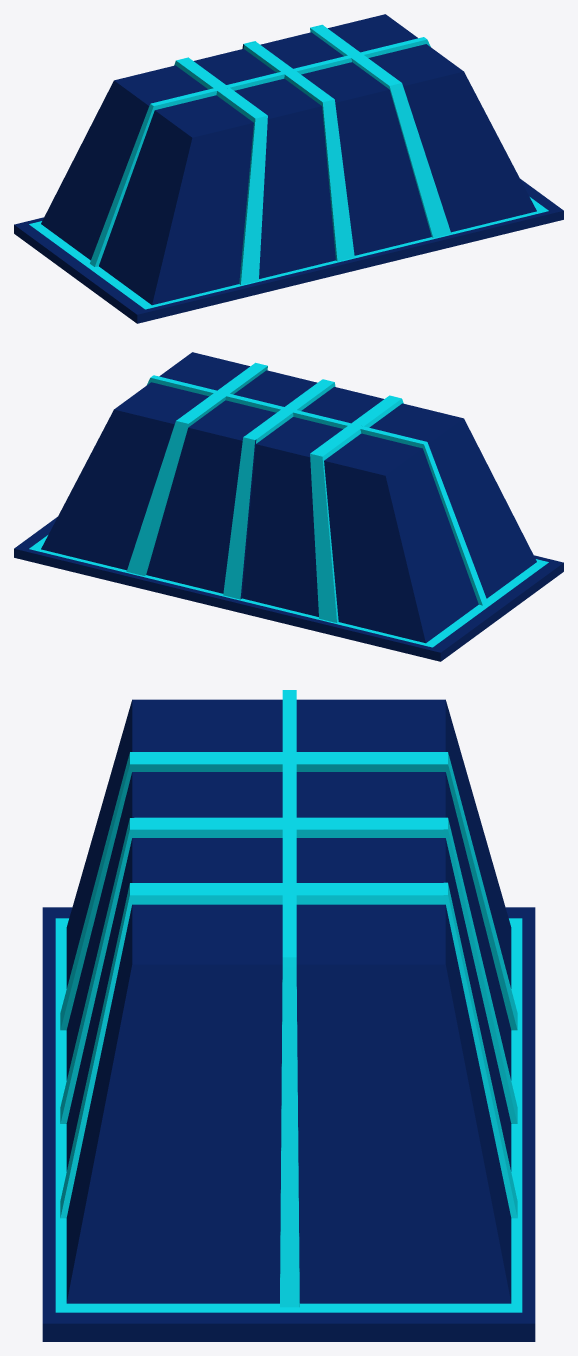
The model's file is Wall (1).fbx.
3 renders of one model, top to bottom at view 1: azimuth 30°, elevation 25°; view 2: azimuth 150°, elevation 25°; view 3: azimuth 270°, elevation 25°, orthographic. The views are drawn at different scales.
Parts seen in each view (by area): view 1: Cube; view 2: Cube; view 3: Cube.
Boxes of the visible parts, x1,y1,x2,y2 form: Cube: (14, 14, 563, 323); Cube: (14, 352, 563, 661); Cube: (42, 690, 535, 1341).
Bounding box in the file's own units: 197 × 68.44 × 98.51.
